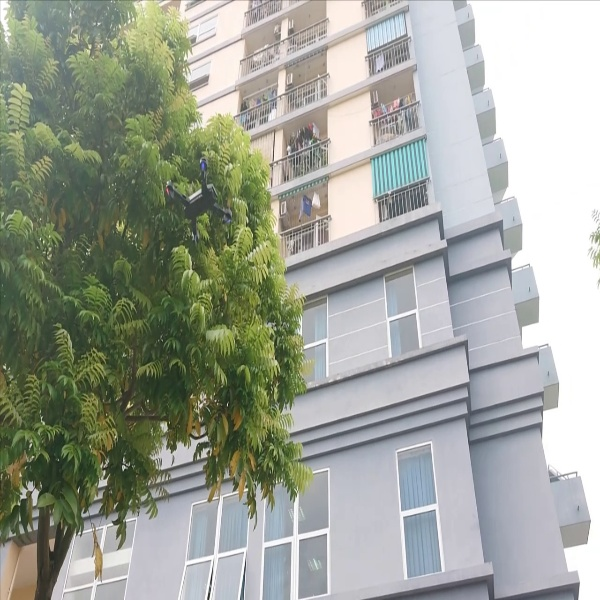drone: (154, 156, 237, 245)
